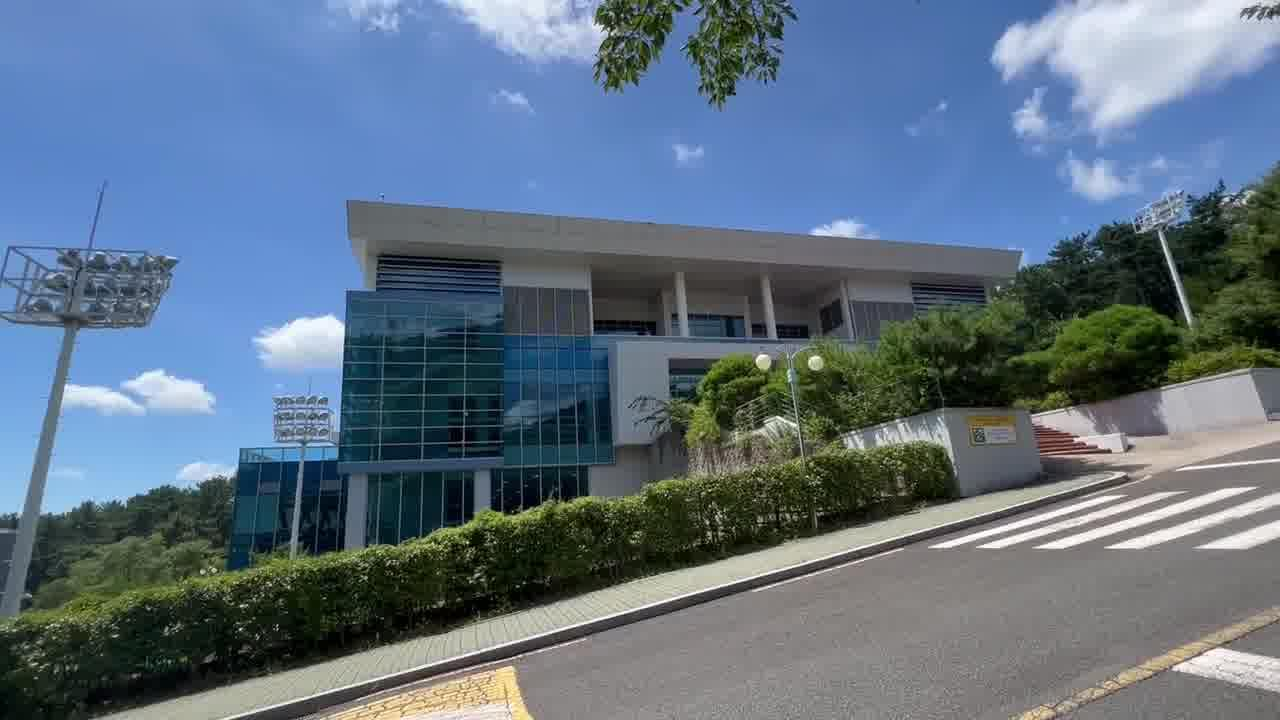building: (239, 201, 717, 493)
